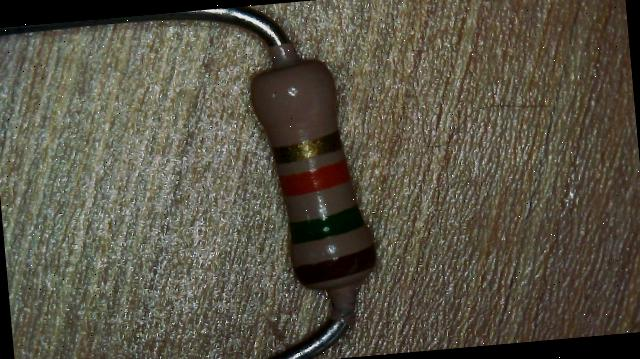brown: (296, 250, 374, 278)
gold: (272, 134, 343, 160)
green: (289, 213, 365, 238)
orange: (280, 166, 351, 190)
resistor: (228, 50, 406, 315)
